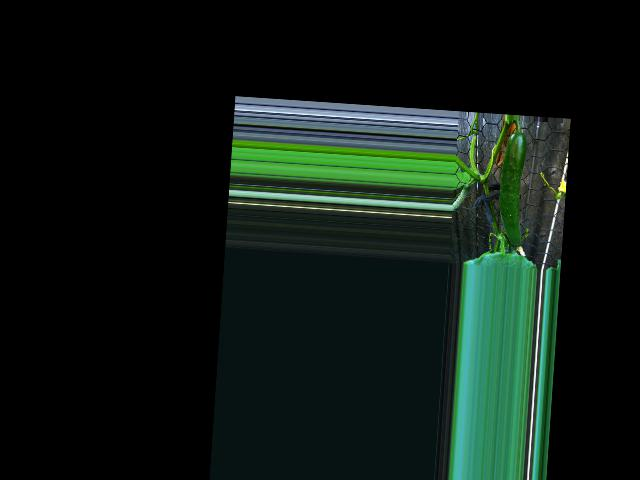cucumber: (495, 130, 528, 246)
